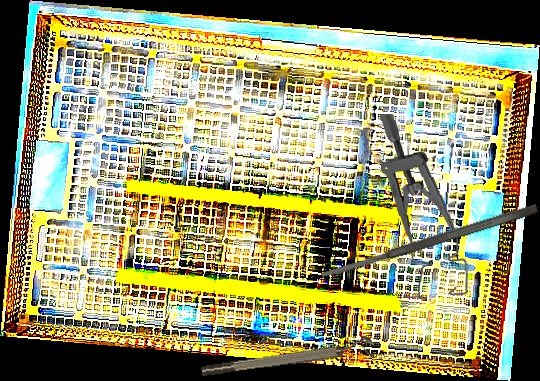Fixation Ring: (199, 334, 376, 380)
Spatula Surgical: (320, 202, 539, 281)
Speculum: (378, 110, 469, 301)
